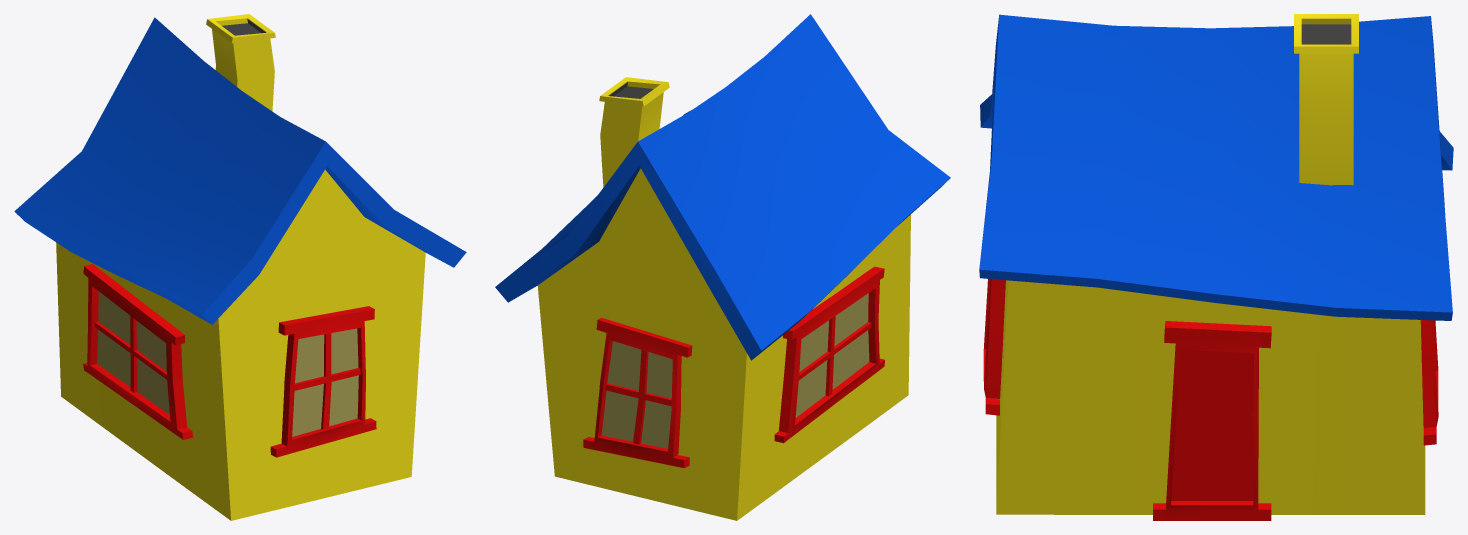
Rendered from cottage1.obj.
3 renders of one model, left to right at view 1: azimuth 30°, elevation 25°; view 2: azimuth 150°, elevation 25°; view 3: azimuth 270°, elevation 25°, orthographic. The views are drawn at different scales.
Visible parts, largest first — view 1: Cube; view 2: Cube; view 3: Cube.
Part boxes in pixels (x1=…): Cube: x1=14, y1=14, x2=466, y2=520; Cube: x1=495, y1=14, x2=950, y2=520; Cube: x1=979, y1=14, x2=1453, y2=520.
Size of the model in its own units: 3.83 by 5.09 by 4.72.
